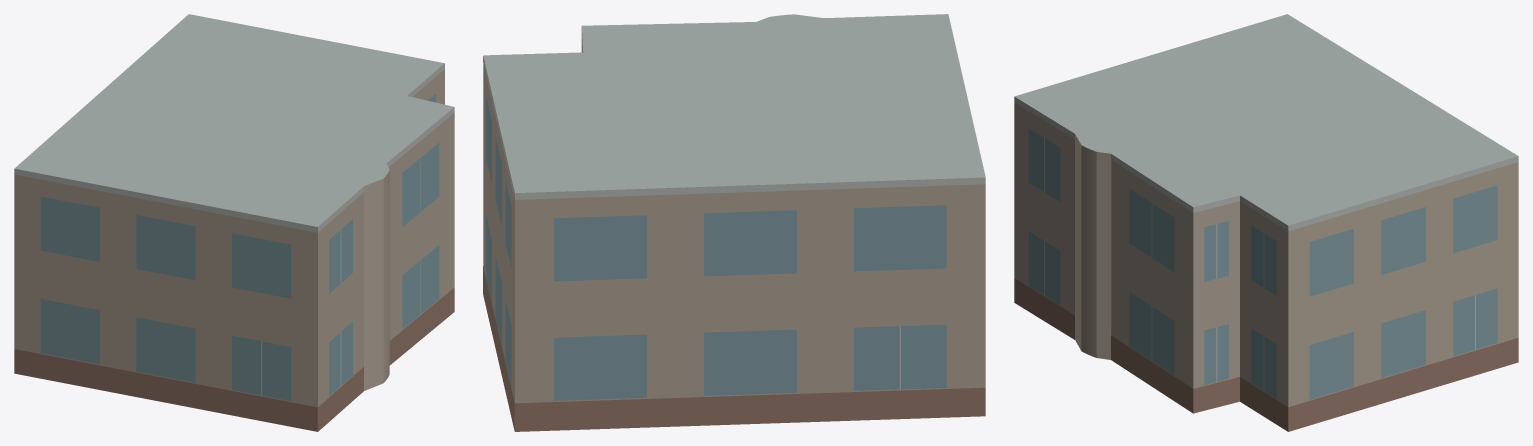
Rendered from survey-upis-32920105.glb.
The picture shows the model from 3 angles, left to right: view 1: azimuth 30°, elevation 25°; view 2: azimuth 150°, elevation 25°; view 3: azimuth 270°, elevation 25°; orthographic projection. The views are drawn at different scales.
Parts seen in each view (by area): view 1: survey-upis-32920105.tmp; view 2: survey-upis-32920105.tmp; view 3: survey-upis-32920105.tmp.
Boxes of the visible parts, box(x1,y1,x2,y2) form: survey-upis-32920105.tmp: box(14, 14, 454, 431); survey-upis-32920105.tmp: box(483, 14, 985, 431); survey-upis-32920105.tmp: box(1014, 14, 1518, 431).
Bounding box in the file's own units: 19.1 × 8.67 × 19.23.
